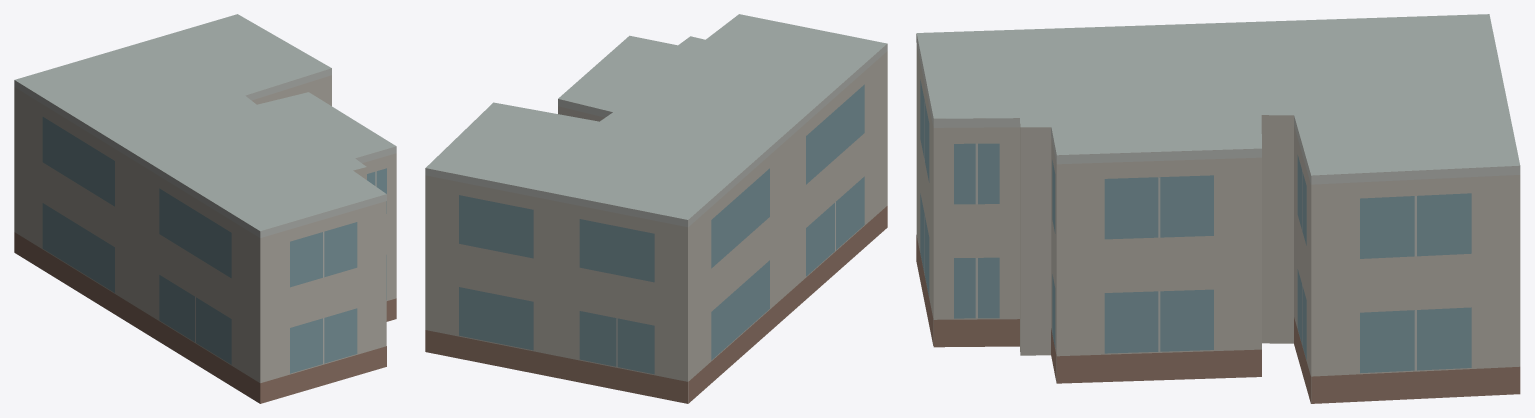
File: survey-upis-32678191.glb
3 views of the same model, side by side, from view 1: azimuth 30°, elevation 25°; view 2: azimuth 150°, elevation 25°; view 3: azimuth 270°, elevation 25° (orthographic). The views are drawn at different scales.
Parts seen in each view (by area): view 1: survey-upis-32678191.tmp; view 2: survey-upis-32678191.tmp; view 3: survey-upis-32678191.tmp.
Boxes of the visible parts, x1,y1,x2,y2 form: survey-upis-32678191.tmp: (14,14,396,403); survey-upis-32678191.tmp: (425,14,887,403); survey-upis-32678191.tmp: (916,14,1520,403).
Bounding box in the file's own units: 9.26 × 6.1 × 14.63.
